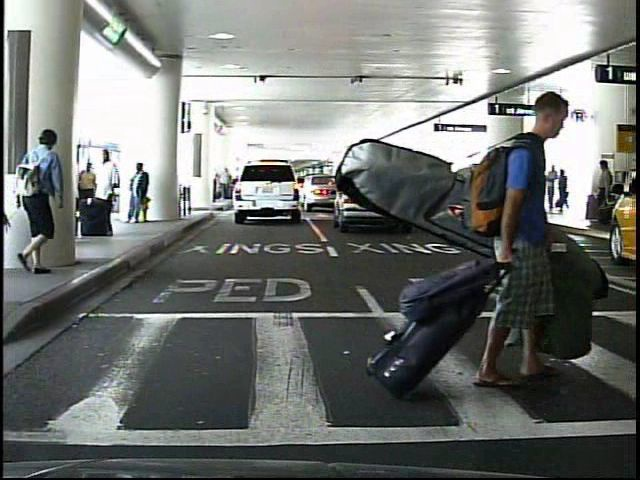person: (462, 84, 573, 390), (15, 129, 65, 275), (92, 146, 119, 239), (126, 161, 152, 227), (590, 158, 614, 225), (75, 158, 96, 231), (543, 164, 558, 212), (555, 169, 568, 213)
